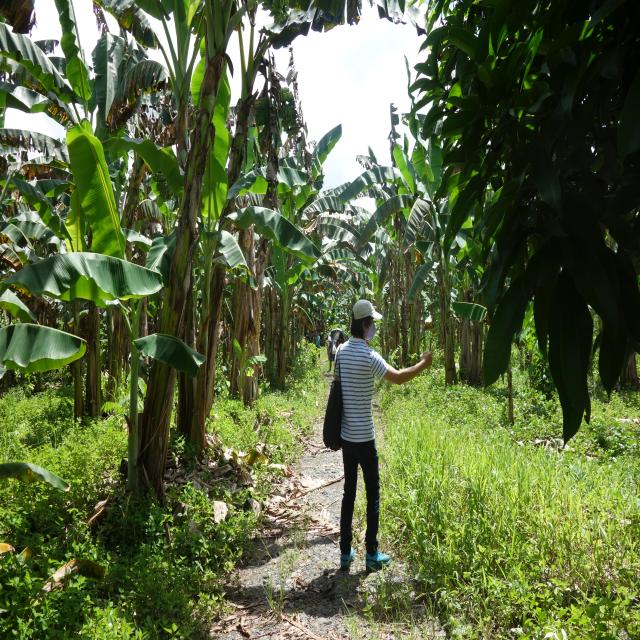Banana-plant: (112, 93, 232, 538), (234, 168, 278, 401), (185, 204, 218, 471), (424, 210, 457, 386), (272, 240, 297, 398), (84, 283, 106, 420), (68, 287, 82, 421)
